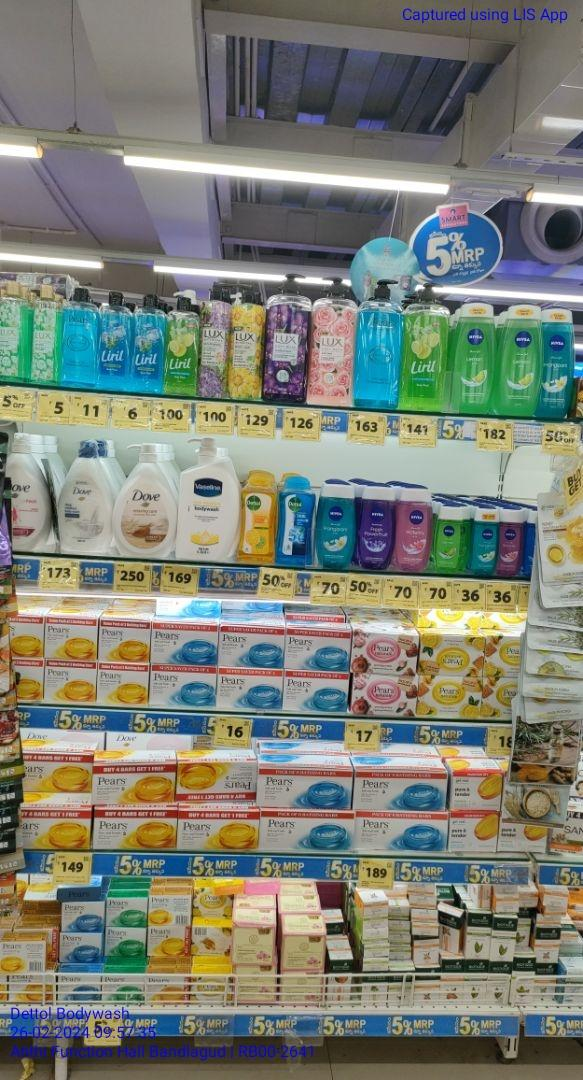Dettol_Bodywash_Cool: (280, 475, 319, 567)
Dettol_Bodywash_Refresh: (241, 470, 278, 564)
Liril_Cooling_Mint_Body_Wash_250ML: (100, 288, 131, 392), (134, 293, 165, 394)
Liril_Lime_and_Tea_Tree_Oil_Body_Wash_250ML: (166, 295, 201, 403)
Lux_Body_Wash_Skin_Detox_Freesia_Scent_and_Alove_Vera_245ML: (31, 282, 61, 386), (0, 278, 25, 381)
Nivea_Shower_Gel_Frangipani_and_Oil_250ML: (543, 304, 578, 419), (321, 480, 356, 572)
Nivea_Shower_Gel_Fresh_Powerfruit_250ML: (359, 485, 397, 575)
Nivea_Shower_Gel_Lemon_and_Oil_250ML: (453, 296, 496, 416), (502, 302, 540, 417)
Nivea_Shower_Gel_Waterlily_and_Oil_250ML: (400, 484, 436, 574)
Pears_Pure_Glycerin_and_Mint_Extracts_Body_Wash_250ML: (63, 285, 97, 390)
